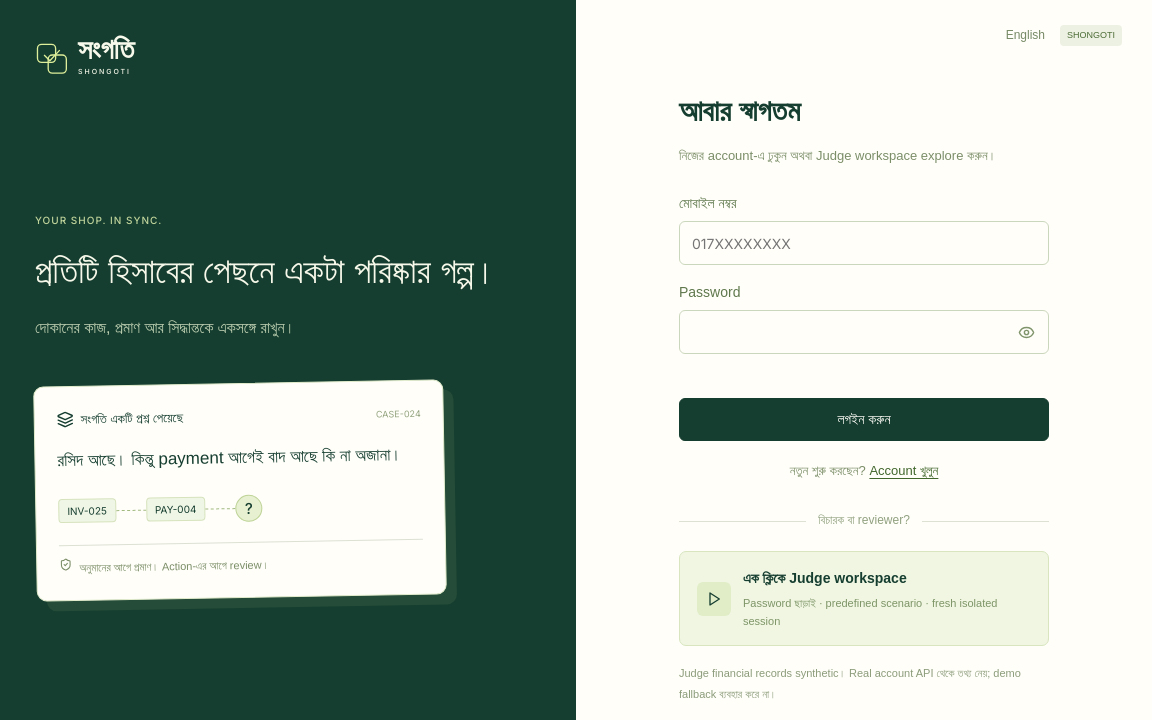
Test: Protected merchant workflow boundaries › judge service failure stays on entry screen and offers retry
This screenshot has width=1152, height=720.
Click the button "Judge workspace" at point(864, 599), box [679, 551, 1049, 646]
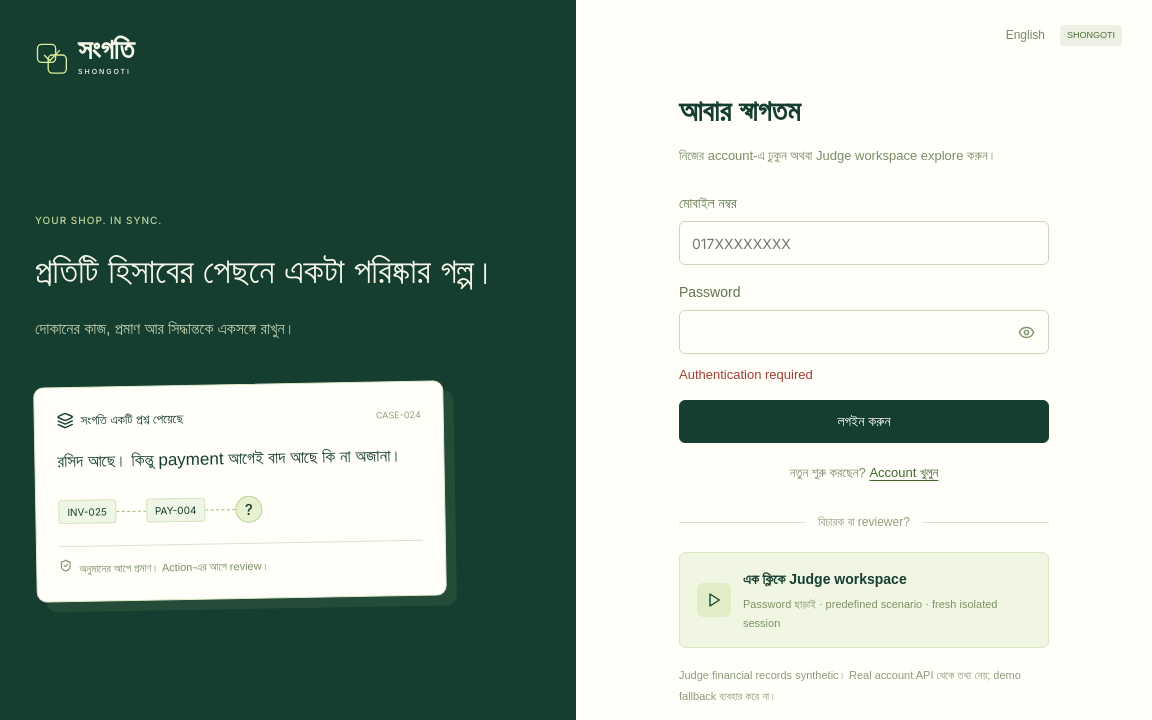
Expected: the message reads "Authentication required", [679, 367, 813, 382]
